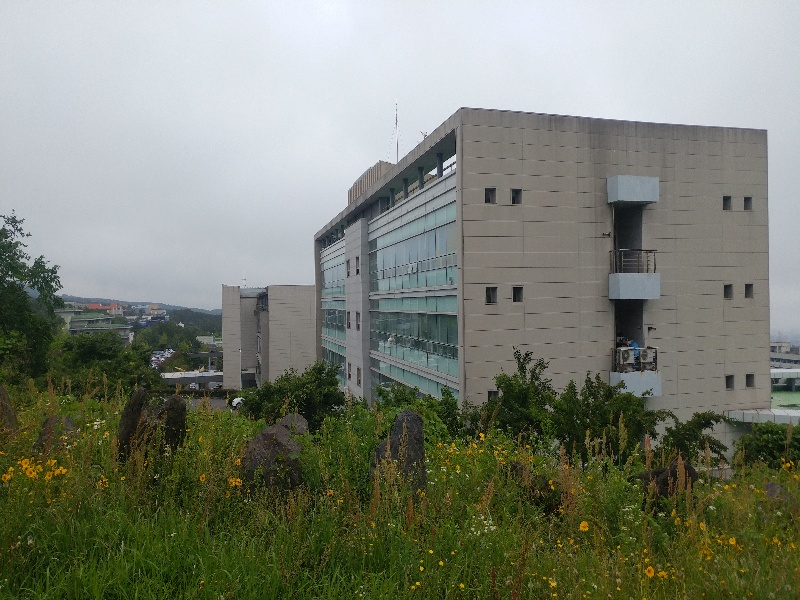College of Marine Science: (319, 93, 777, 408)
Engineering College Building 4: (218, 282, 311, 388)
